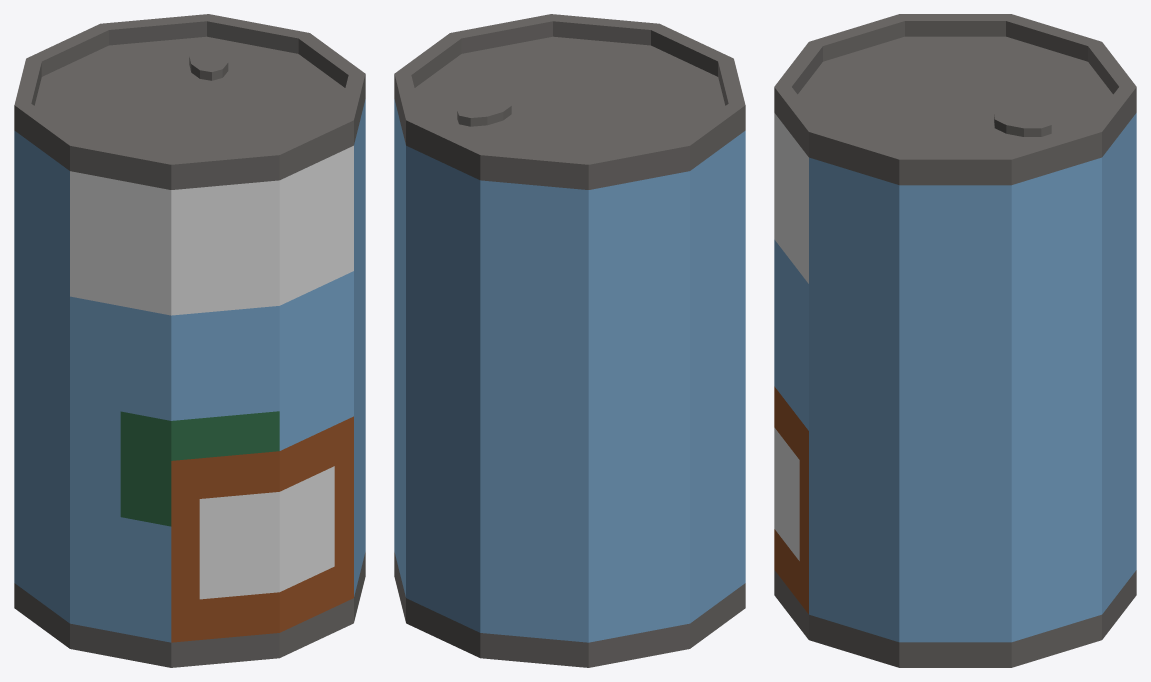
The model's file is Coconut Milk.fbx.
3 views of the same model, side by side, from view 1: azimuth 30°, elevation 25°; view 2: azimuth 150°, elevation 25°; view 3: azimuth 270°, elevation 25° (orthographic).
Parts seen in each view (by area): view 1: Coconut Milk; view 2: Coconut Milk; view 3: Coconut Milk.
Boxes of the visible parts, left/top/right/bottom form: Coconut Milk: left=14, top=14, right=365, bottom=667; Coconut Milk: left=394, top=14, right=745, bottom=667; Coconut Milk: left=774, top=14, right=1136, bottom=667.
Bounding box in the file's own units: 23.52 × 38.26 × 24.73.
